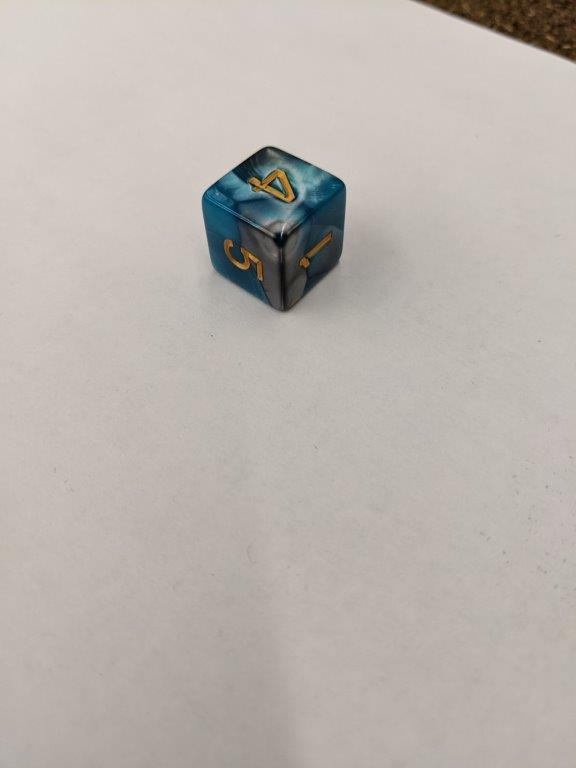d6-4: (202, 145, 350, 310)
